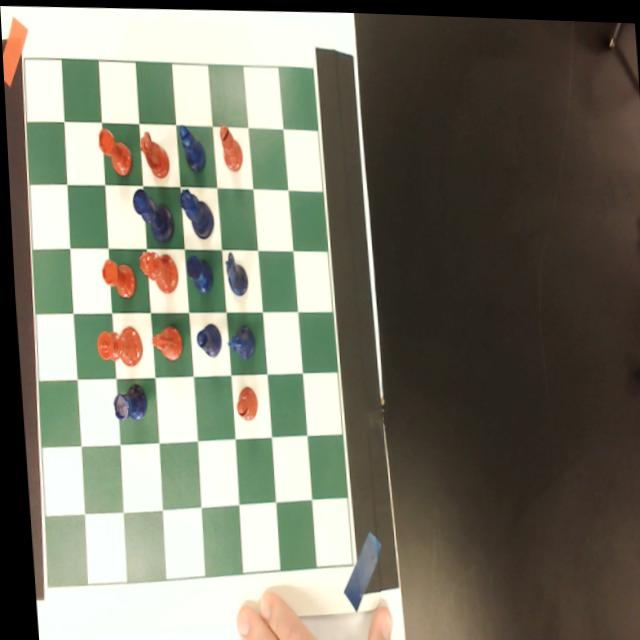B: (178, 121, 205, 178), (191, 320, 220, 357)
K: (128, 187, 173, 243)
N: (221, 247, 246, 296), (222, 319, 252, 357)
Q: (175, 185, 212, 239)
R: (106, 379, 145, 425), (180, 250, 211, 293)
b: (218, 120, 244, 171), (230, 381, 255, 420)
k: (90, 323, 141, 368)
n: (135, 129, 169, 180), (146, 322, 181, 362)
q: (134, 247, 177, 293)
r: (95, 126, 132, 178), (97, 255, 136, 299)
